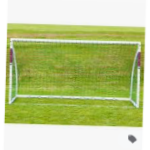goals: (9, 35, 143, 115)
